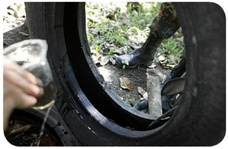tire: (24, 2, 225, 149)
